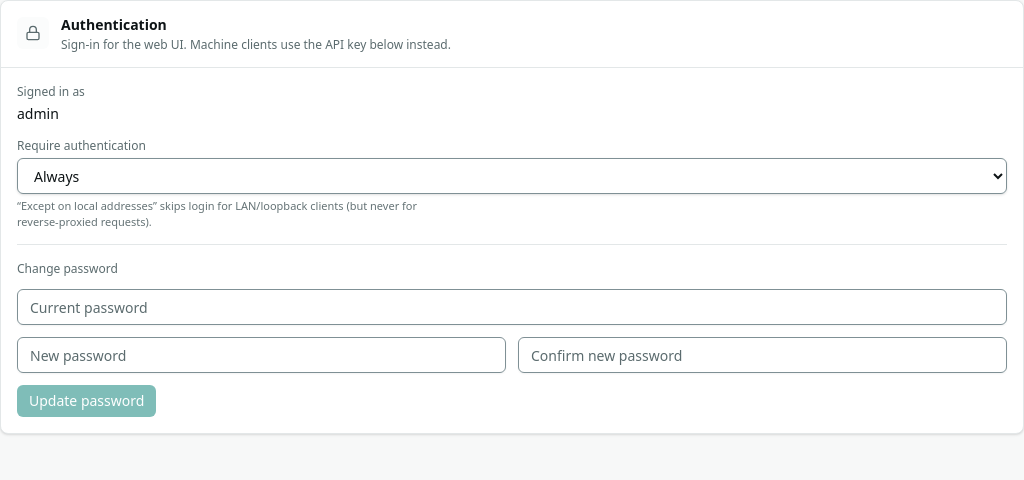
Test case: shows the server's reason a password change was refused, without signing out
Step 1. Type "wrong" into the password field with placeholder "Current password" → (512, 307), box [17,289,1007,325]
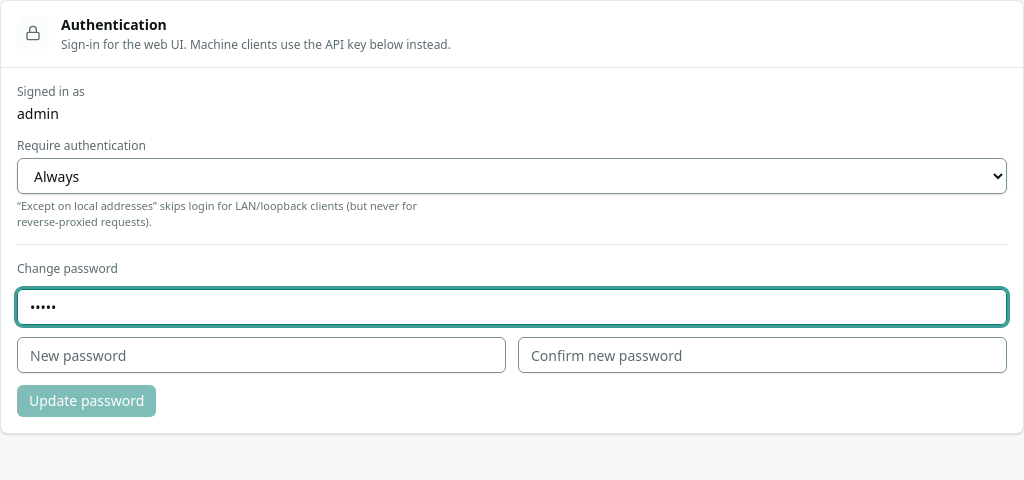
Step 2. Type "brandnew1" into the password field with placeholder "New password" → (262, 355), box [17,337,506,373]
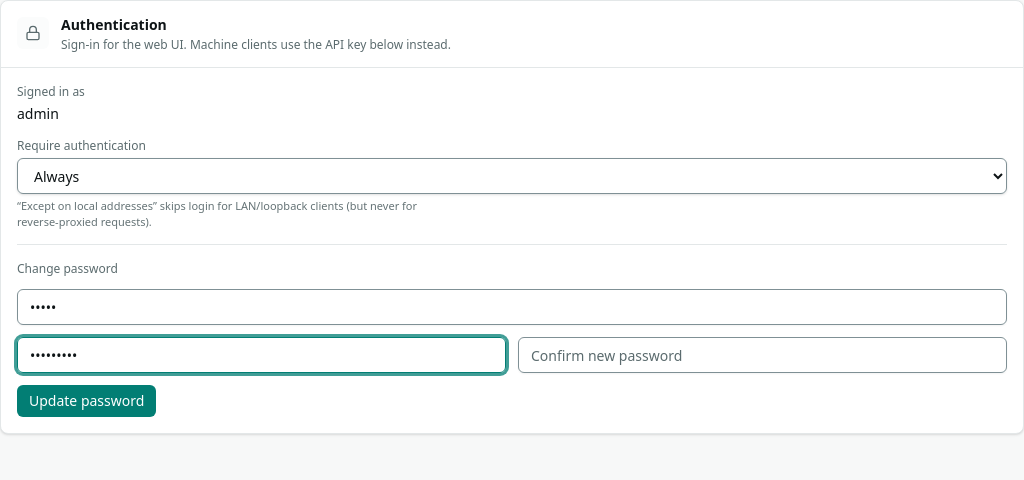
Step 3. Type "brandnew1" into the password field with placeholder "Confirm new password" → (762, 355), box [518,337,1007,373]
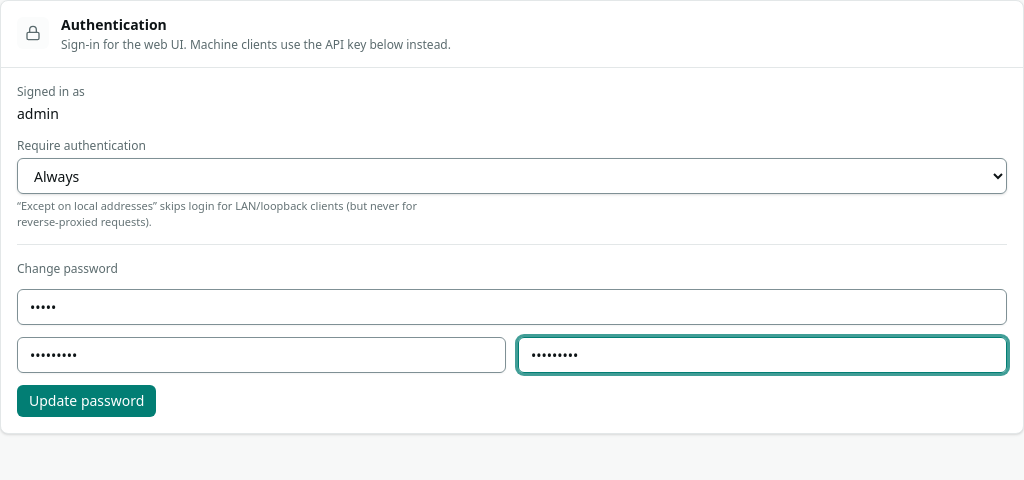
Step 4. Click the button "Update password" → (87, 401), box [17,385,156,417]
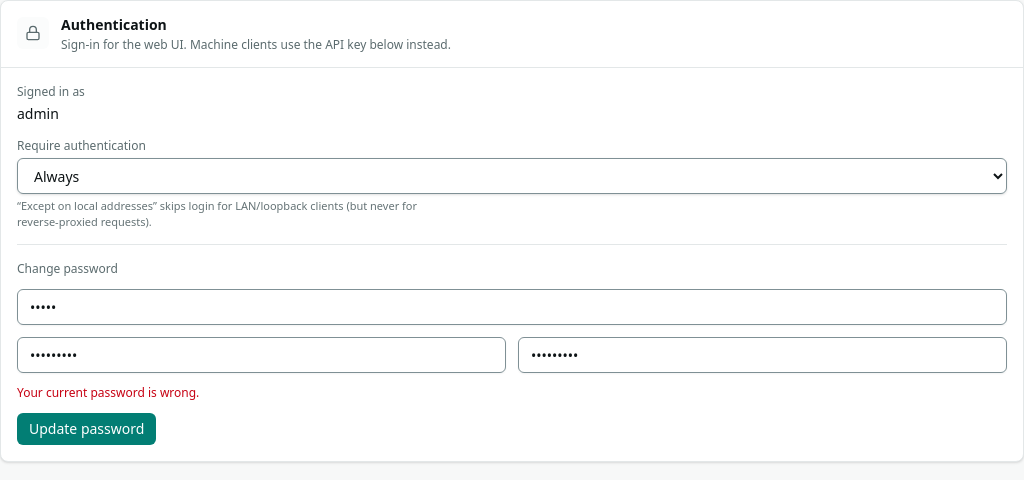
Now the text "Your current password is wrong." is shown, box [17,384,199,401]
